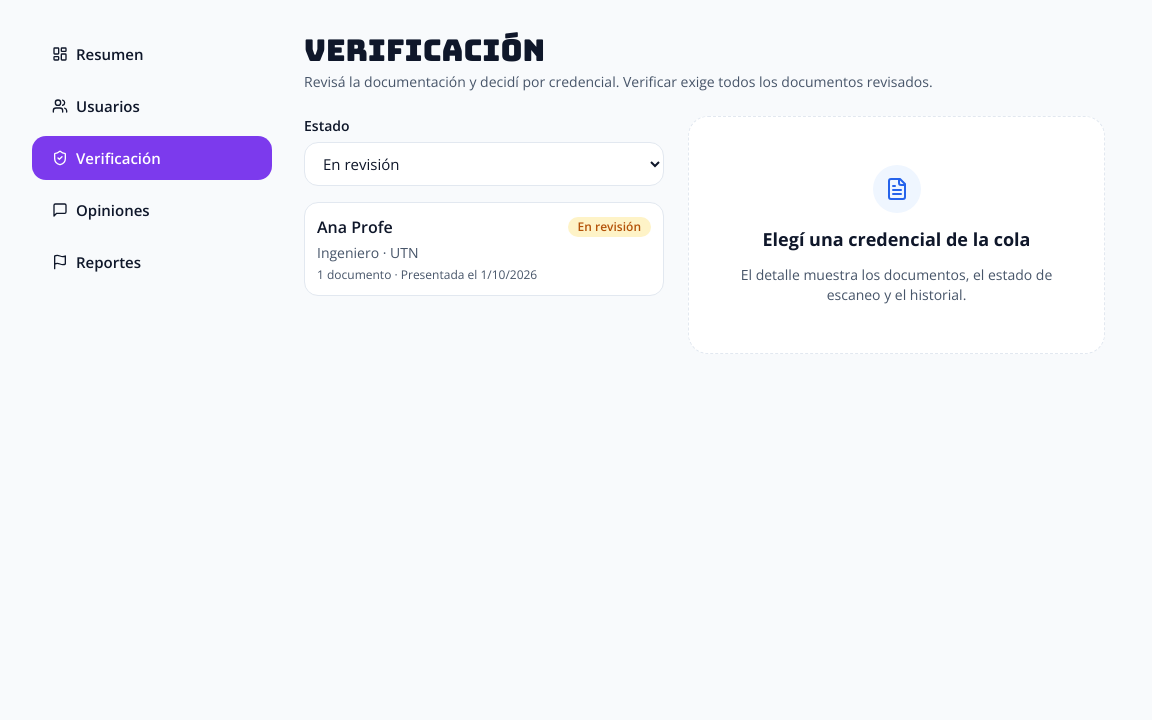
Test case: AdminVerificationsPage › submits VERIFIED once every document was reviewed
Later steps or results of the test are not shown.
Click the button "Ana Profe".
click(355, 227)  # box [304,202,664,296]
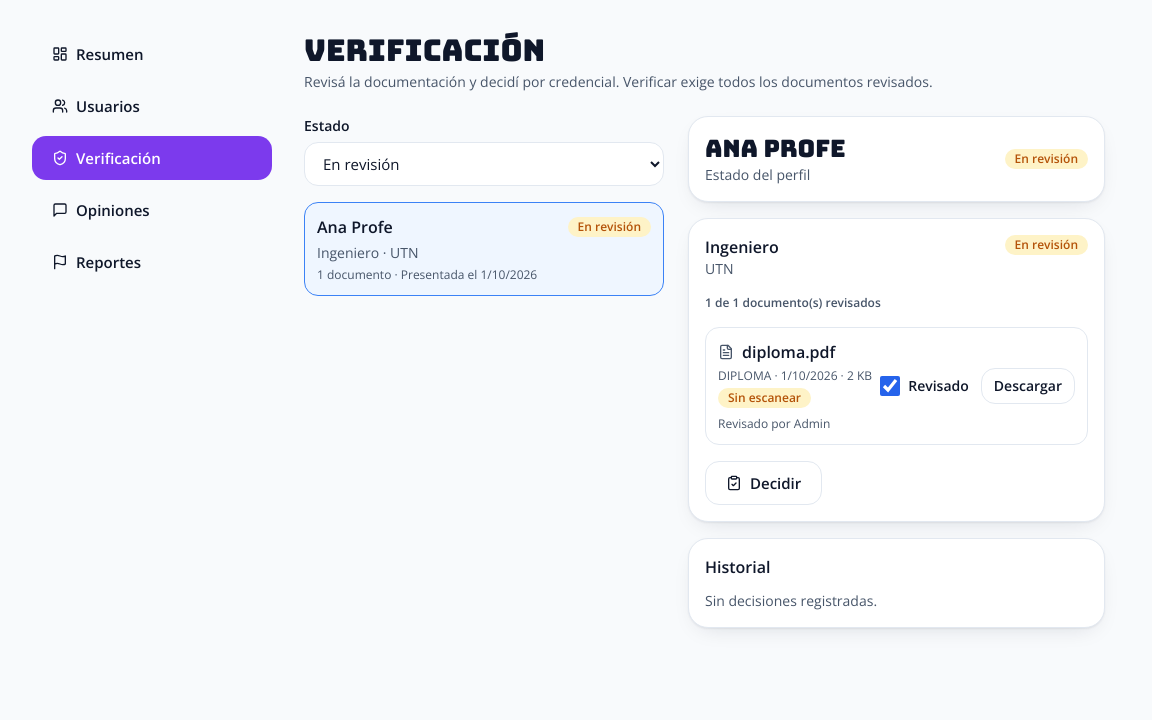
Check: the text "diploma.pdf" is shown, box [718,341,835,363]
